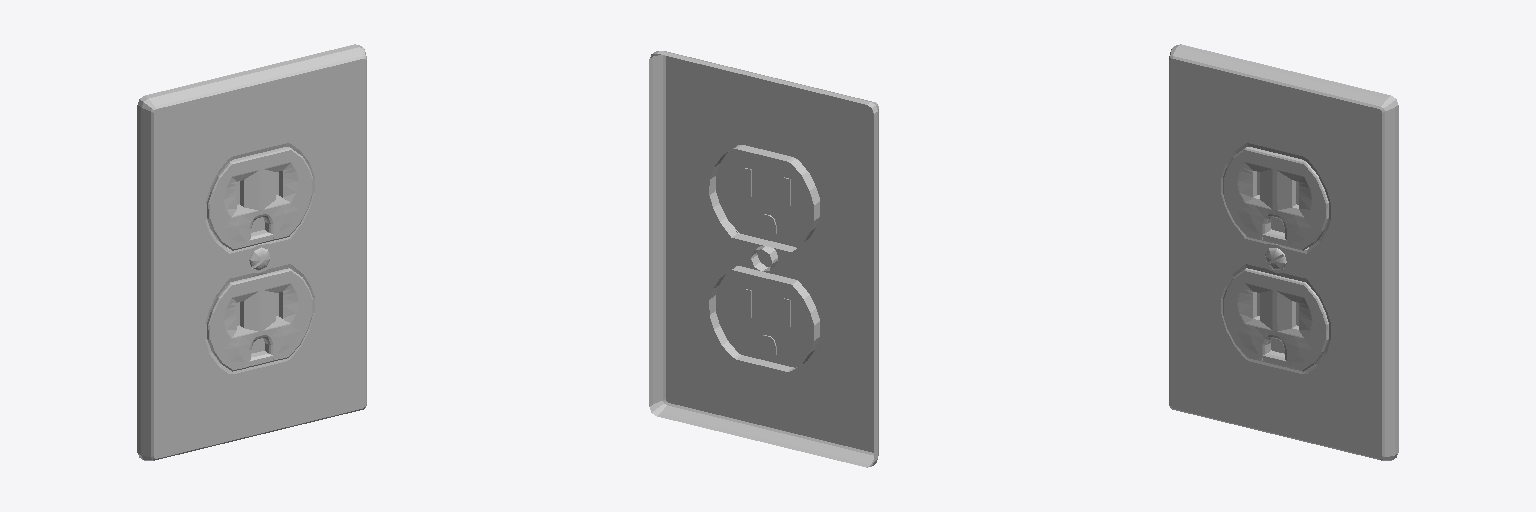
Rendered from tomada_2.obj.
The picture shows the model from 3 angles: view 1: azimuth 30°, elevation 25°; view 2: azimuth 150°, elevation 25°; view 3: azimuth 330°, elevation 25°; orthographic projection.
Parts seen in each view (by area): view 1: tomada_2_tomada_WallSocket.001; view 2: tomada_2_tomada_WallSocket.001; view 3: tomada_2_tomada_WallSocket.001.
Part boxes in pixels (bbox=[...]): tomada_2_tomada_WallSocket.001: bbox=[137, 44, 366, 460]; tomada_2_tomada_WallSocket.001: bbox=[649, 51, 878, 467]; tomada_2_tomada_WallSocket.001: bbox=[1169, 44, 1398, 460].
Size of the model in its own units: 0.275 by 0.4244 by 0.0267.